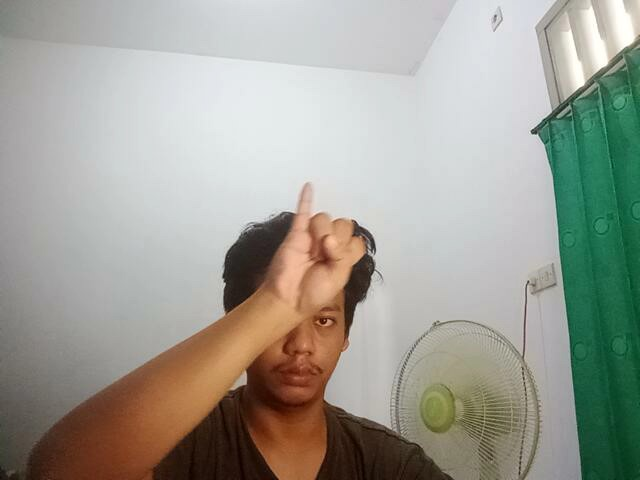I: (262, 179, 368, 316)
